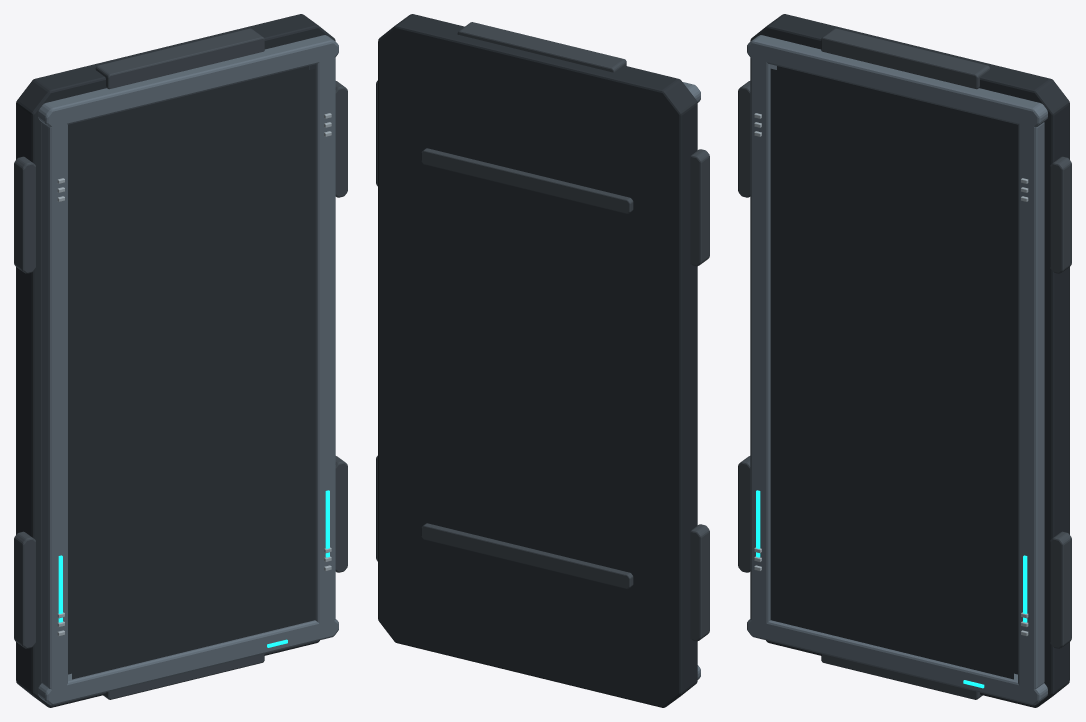
Rendered from FZH_Kinetic_Mobile.glb.
3 views of the same model, side by side, from view 1: azimuth 30°, elevation 25°; view 2: azimuth 150°, elevation 25°; view 3: azimuth 330°, elevation 25° (orthographic).
Parts seen in each view (by area): view 1: Mobile_Screen, Mobile_Bezel, Mobile_Chassis, Mobile_Left_Segments, Mobile_Top_Module, Mobile_Right_Segments, Mobile_Bottom_Module, Mobile_Status; view 2: Mobile_Chassis, Mobile_Back, Mobile_Left_Segments, Mobile_Top_Module; view 3: Mobile_Screen, Mobile_Bezel, Mobile_Chassis, Mobile_Right_Segments, Mobile_Top_Module, Mobile_Left_Segments, Mobile_Bottom_Module, Mobile_Status.
Part boxes in pixels (bbox=[...]): Mobile_Screen: bbox=[72, 68, 315, 679]; Mobile_Bezel: bbox=[38, 35, 338, 705]; Mobile_Chassis: bbox=[16, 14, 335, 707]; Mobile_Left_Segments: bbox=[14, 156, 35, 648]; Mobile_Top_Module: bbox=[95, 28, 264, 89]; Mobile_Right_Segments: bbox=[335, 81, 347, 572]; Mobile_Bottom_Module: bbox=[103, 654, 264, 699]; Mobile_Status: bbox=[58, 490, 329, 647]; Mobile_Chassis: bbox=[378, 14, 697, 707]; Mobile_Back: bbox=[421, 148, 633, 588]; Mobile_Left_Segments: bbox=[690, 149, 709, 641]; Mobile_Top_Module: bbox=[457, 22, 626, 72]; Mobile_Screen: bbox=[770, 68, 1013, 679]; Mobile_Bezel: bbox=[747, 35, 1047, 705]; Mobile_Chassis: bbox=[750, 14, 1069, 707]; Mobile_Right_Segments: bbox=[1050, 156, 1071, 648]; Mobile_Top_Module: bbox=[821, 28, 990, 89]; Mobile_Left_Segments: bbox=[738, 81, 750, 572]; Mobile_Bottom_Module: bbox=[821, 654, 982, 699]; Mobile_Status: bbox=[756, 490, 1027, 688].
Size of what is drawn, in the model's own units: 1.28 by 2.36 by 0.219.
